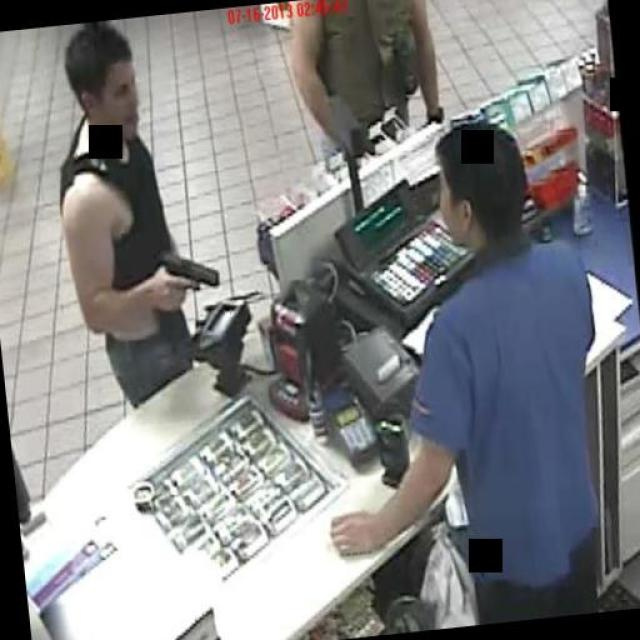gun: (151, 248, 221, 312)
